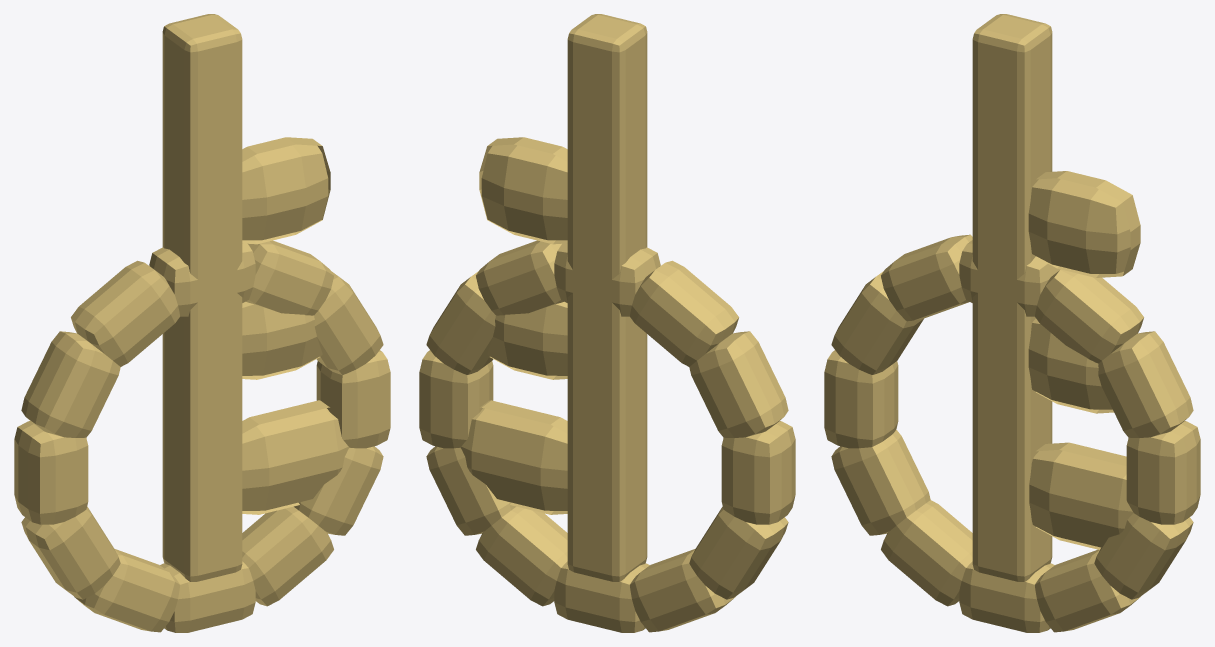
File: item_key.glb
3 renders of one model, left to right at view 1: azimuth 30°, elevation 25°; view 2: azimuth 150°, elevation 25°; view 3: azimuth 330°, elevation 25°, orthographic.
Parts seen in each view (by area): view 1: body; view 2: body; view 3: body.
Part boxes in pixels (bbox=[...]): body: bbox=[14, 14, 390, 632]; body: bbox=[419, 14, 795, 632]; body: bbox=[824, 14, 1200, 632].
Bounding box in the file's own units: 0.083 × 0.1315 × 0.012.
